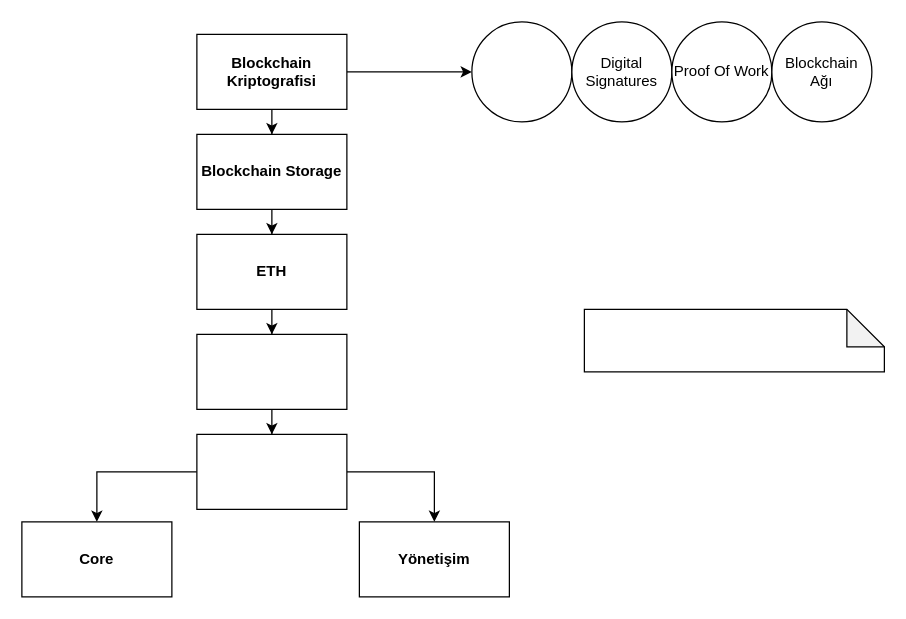
Image size: 906x619. Some labels were removed from this diagram. Here are the shapes that lost their labels. From the top down, the centre of each, then its label:
At (521,71): "The First Primitive".
At (733,340): "muzkaviy@gmail.com".
At (271,371): "Smart Contracts".
At (271,471): "Solidity".
